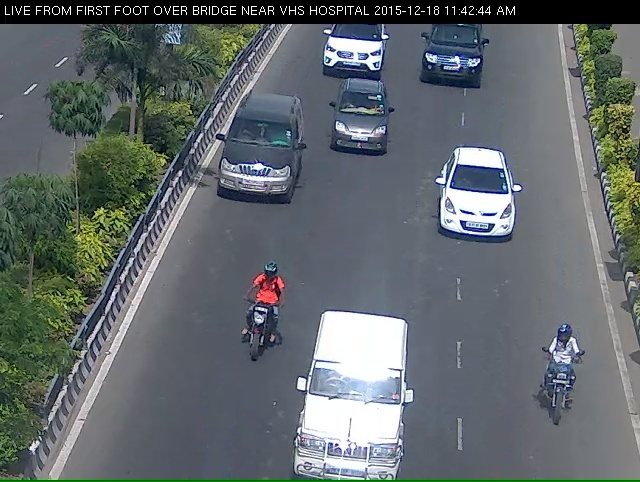Car: (289, 328, 418, 482), (214, 84, 299, 230), (433, 155, 525, 261), (412, 18, 498, 109), (332, 90, 396, 171), (319, 20, 388, 92)
Person: (541, 341, 587, 453), (230, 298, 272, 400)
